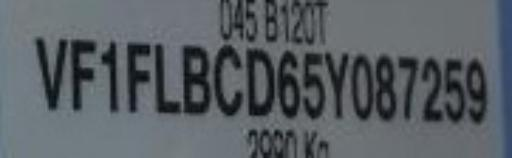letter: (212, 42, 246, 120), (34, 33, 66, 111), (152, 39, 184, 117), (178, 42, 212, 114), (122, 39, 152, 117), (244, 45, 276, 117), (68, 36, 98, 111), (370, 53, 402, 119), (274, 47, 302, 119), (299, 50, 327, 119), (322, 50, 350, 119), (348, 53, 376, 119), (441, 56, 469, 122), (99, 36, 121, 114), (418, 56, 444, 122), (396, 53, 420, 122), (464, 56, 488, 122)
